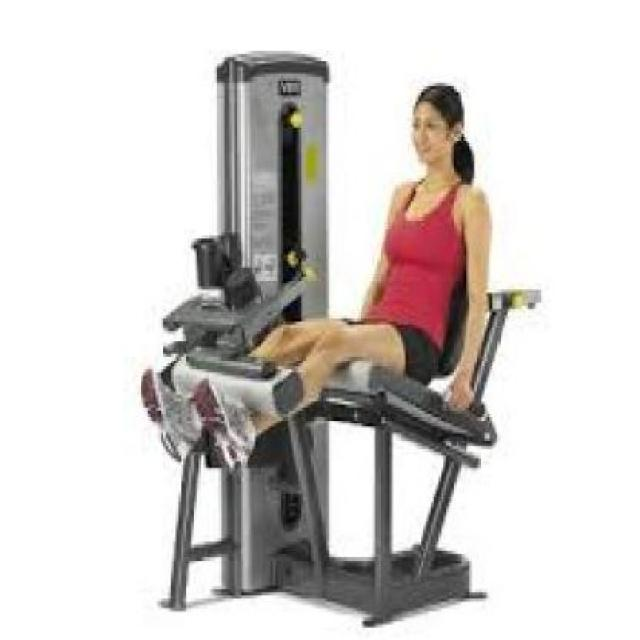leg extension: (134, 40, 549, 640)
